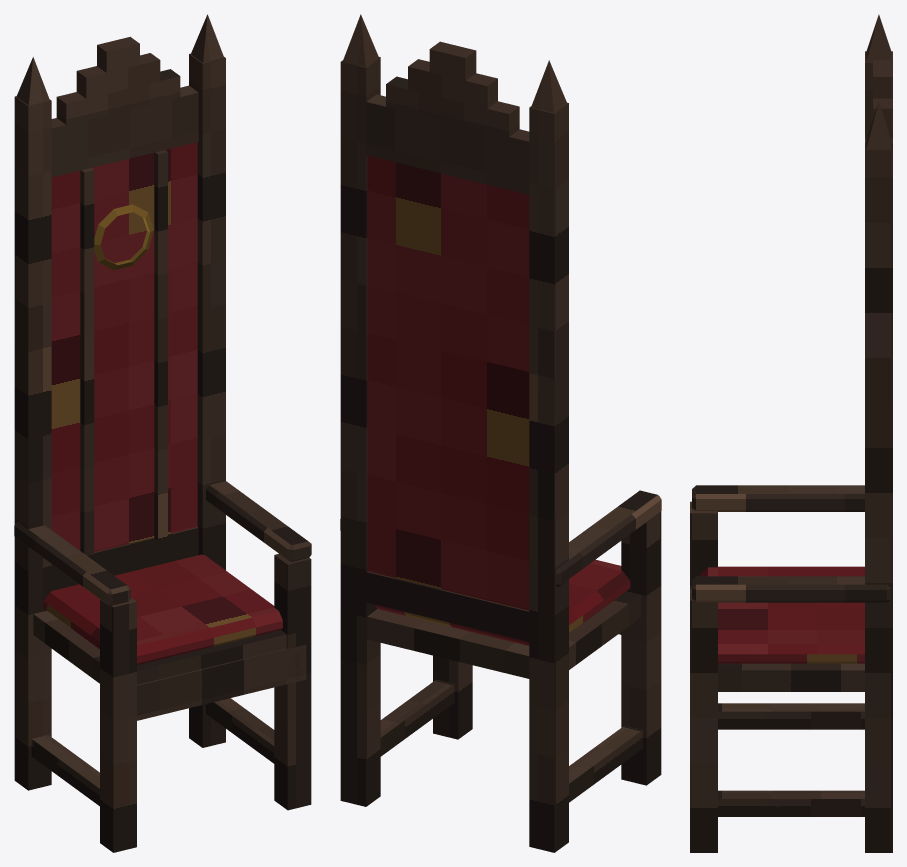
File: high_chair.obj
3 views of the same model, side by side, from view 1: azimuth 30°, elevation 25°; view 2: azimuth 150°, elevation 25°; view 3: azimuth 270°, elevation 25° (orthographic). The views are drawn at different scales.
Visible parts, largest first — view 1: high_chair; view 2: high_chair; view 3: high_chair.
Part boxes in pixels (box(x1,y1,x2,y2)): high_chair: box(14, 14, 311, 852); high_chair: box(340, 14, 661, 852); high_chair: box(690, 14, 892, 852).
Bounding box in the file's own units: 0.61 × 2.07 × 0.51.
